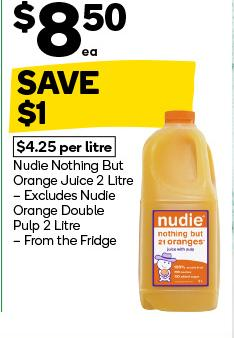description_block: (7, 153, 135, 256)
price_main: (7, 0, 147, 63)
product_image_block: (121, 103, 230, 317)
promo_text_block: (7, 64, 206, 130)
unit_price_block: (6, 132, 121, 160)
